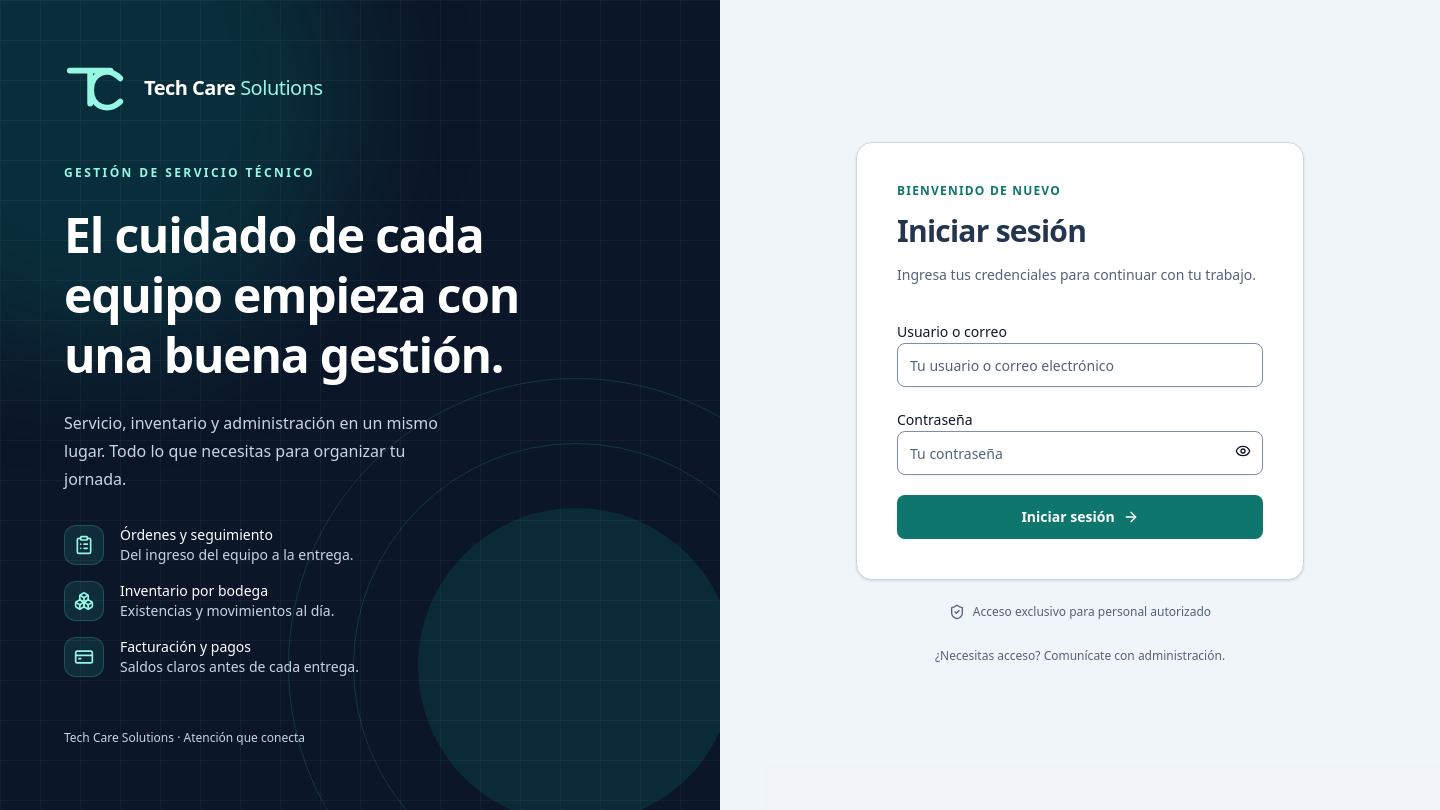
Test: navegación y sesión de Tech Care Solutions › inicia sesión por cookie, vuelve a la ruta solicitada y cierra sesión sin conservar el shell
Type "wilson@example.com" into the field labelled "Usuario o correo" at (1080, 365), box x1=897 y1=343 x2=1263 y2=387
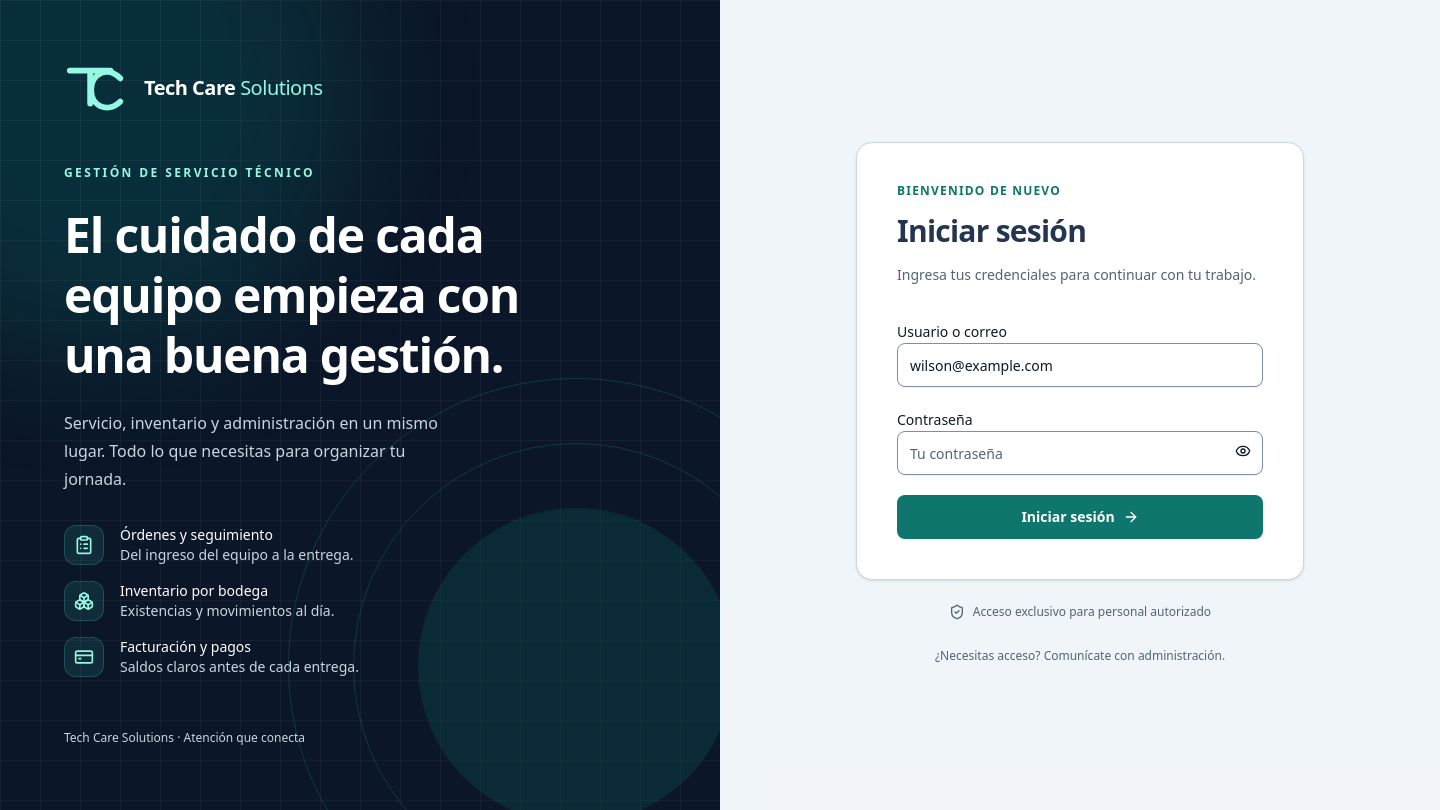
Type "password" into the password field labelled "Contraseña" at (1080, 453), box x1=897 y1=431 x2=1263 y2=475
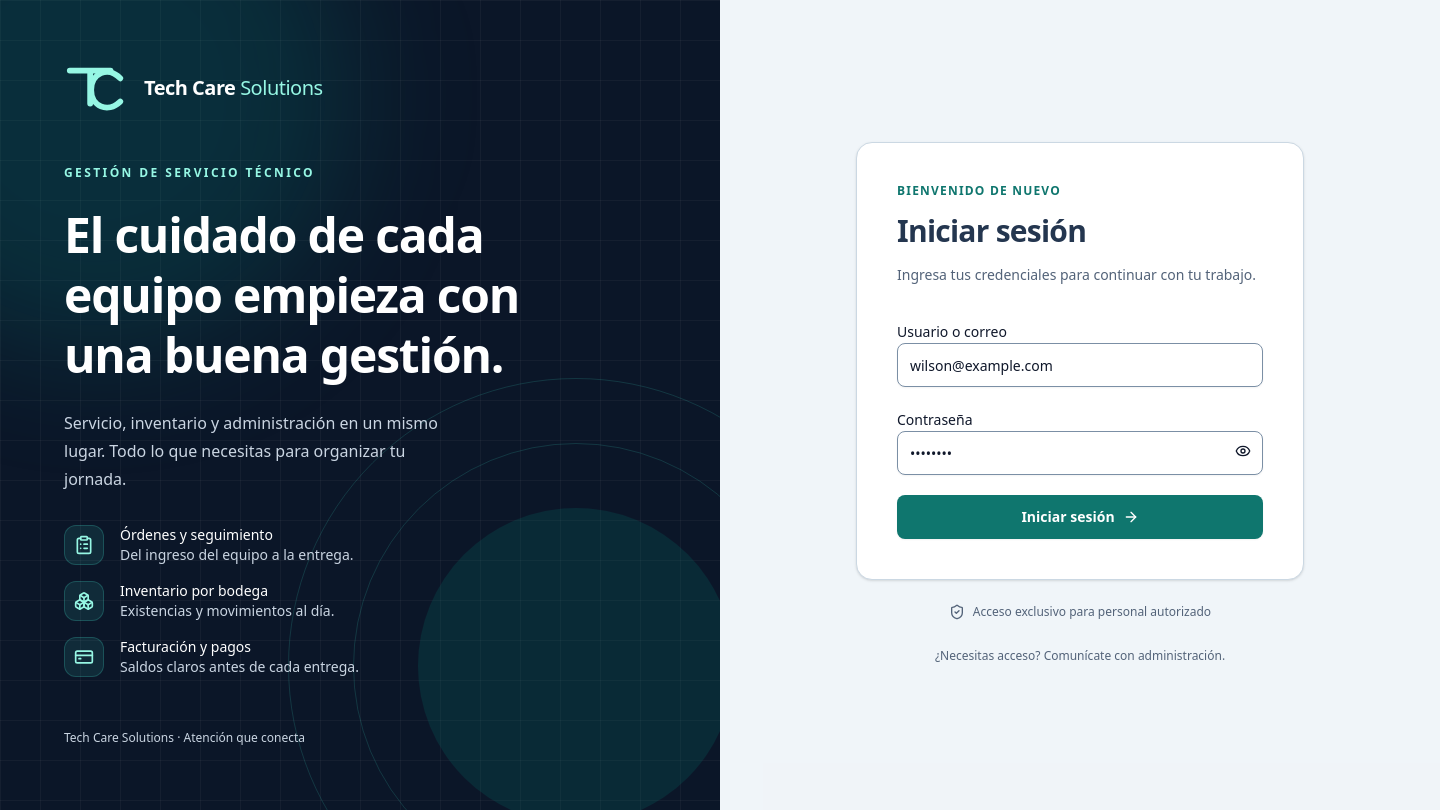
Click the button "Iniciar sesión" at (1080, 517), box x1=897 y1=495 x2=1263 y2=539
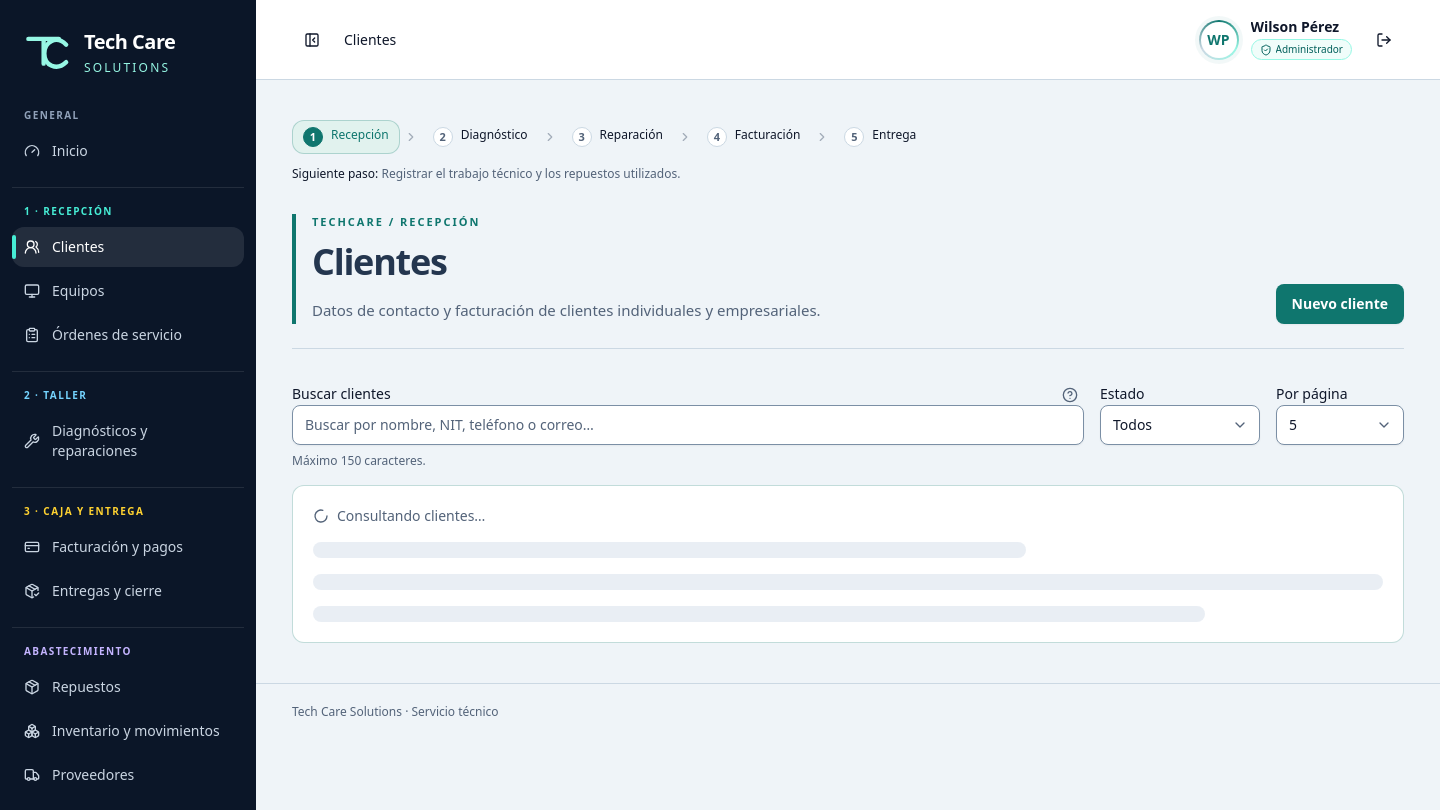
Result: the heading "Clientes" is shown at x1=312 y1=236 x2=446 y2=286
Click the button named "Cerrar sesión" at (1384, 40), box x1=1364 y1=20 x2=1404 y2=60
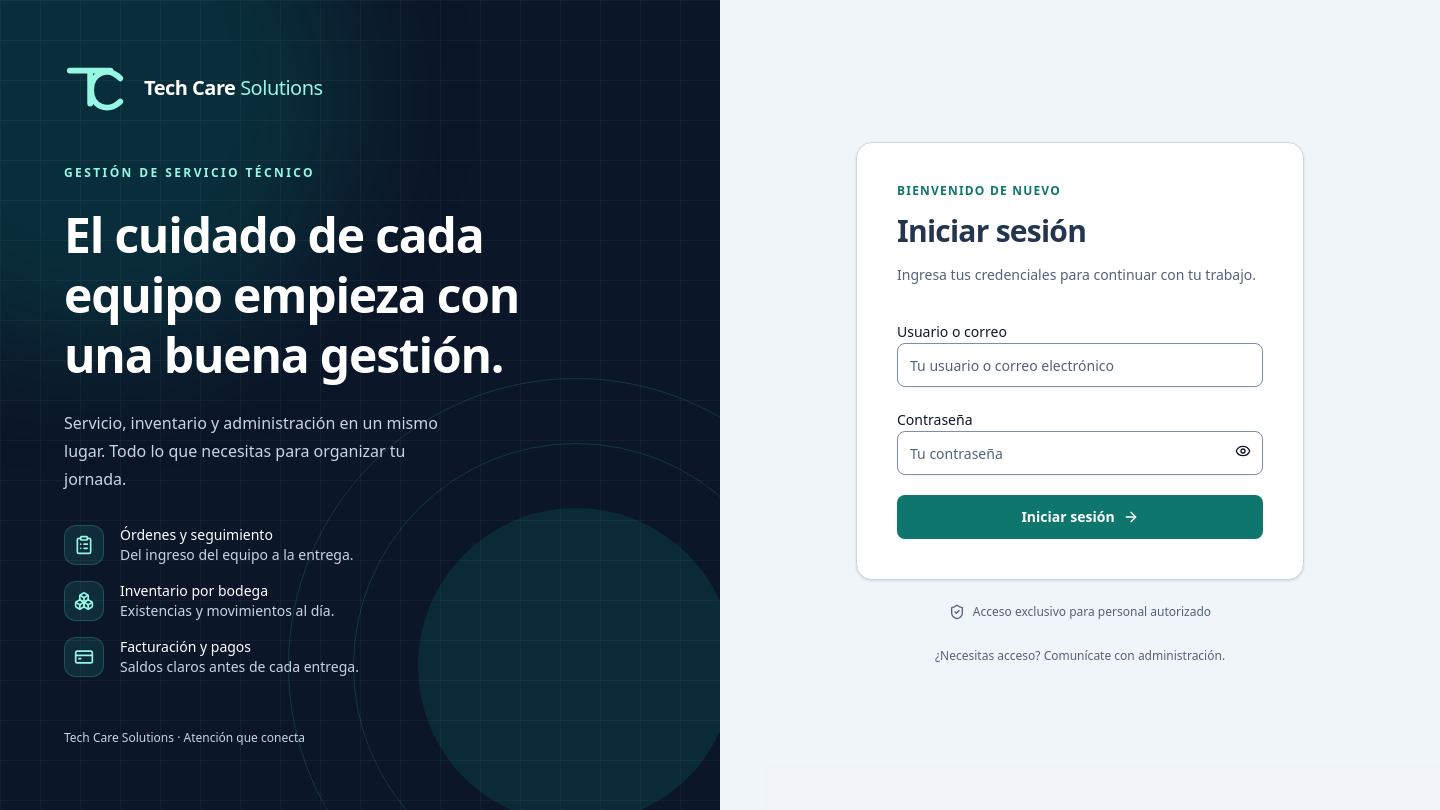
Result: the heading "Iniciar sesión" is shown at x1=897 y1=210 x2=1086 y2=251
